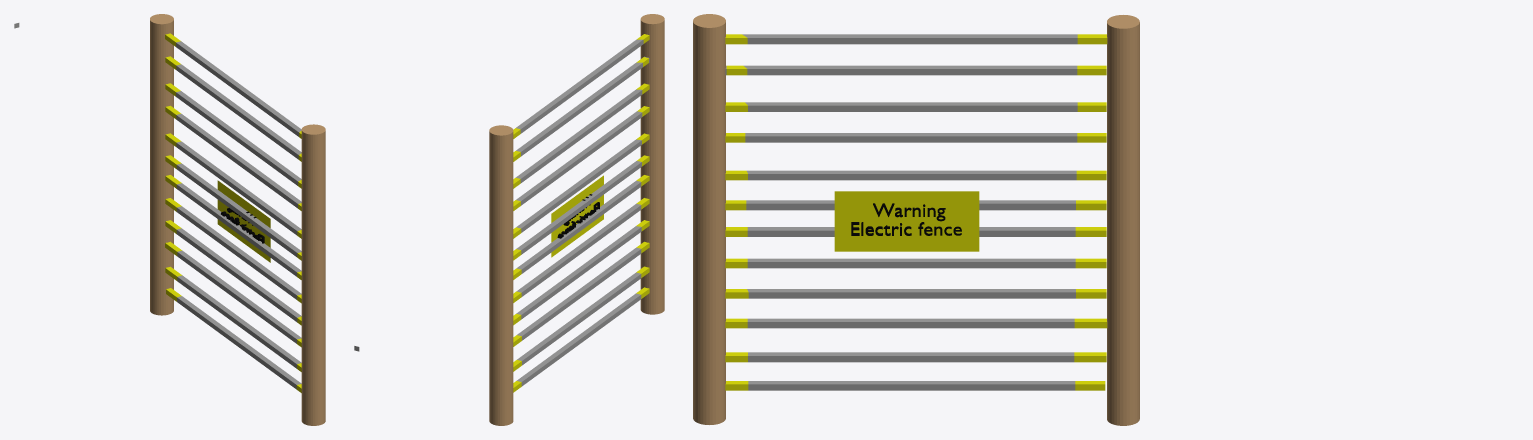
The model's file is fence.fbx.
3 renders of one model, left to right at view 1: azimuth 30°, elevation 25°; view 2: azimuth 150°, elevation 25°; view 3: azimuth 270°, elevation 25°, orthographic. The views are drawn at different scales.
Visible parts, largest first — view 1: Cube, Text; view 2: Cube, Text; view 3: Cube, Text.
Part boxes in pixels (bbox=[...]): Cube: bbox=[14, 14, 325, 425]; Text: bbox=[221, 208, 264, 243]; Cube: bbox=[354, 14, 664, 425]; Text: bbox=[557, 194, 599, 238]; Cube: bbox=[693, 14, 1139, 425]; Text: bbox=[851, 203, 961, 235].
Bounding box in the file's own units: 106 × 1415 × 2661.
